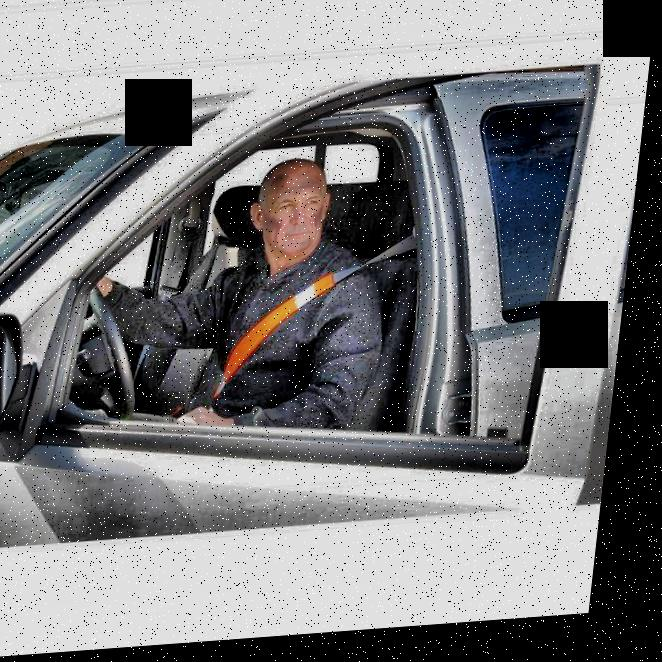seatbelt: (198, 238, 430, 421)
